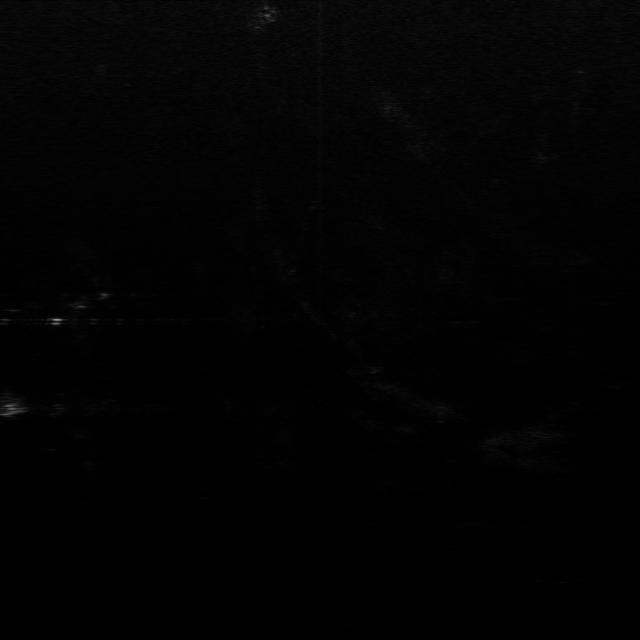rov: (0, 400, 26, 419)
